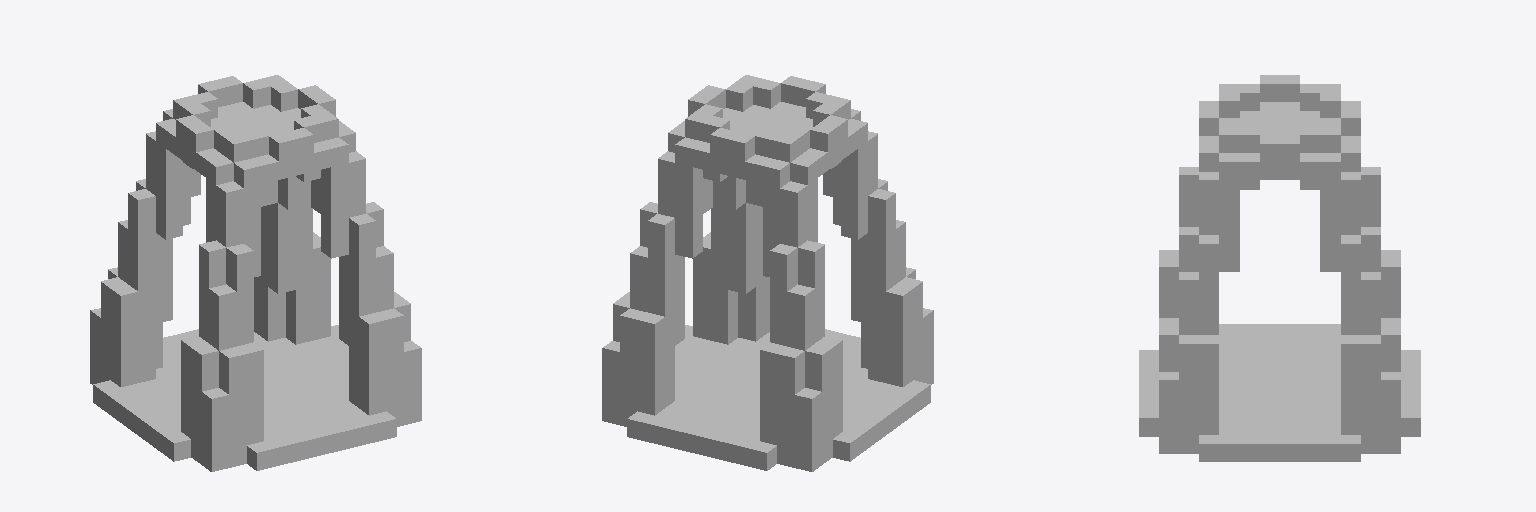
The model's file is Archer Tower.obj.
3 renders of one model, left to right at view 1: azimuth 30°, elevation 25°; view 2: azimuth 150°, elevation 25°; view 3: azimuth 270°, elevation 25°, orthographic.
Parts seen in each view (by area): view 1: object 1; view 2: object 1; view 3: object 1.
Part boxes in pixels (bbox=[...]): object 1: bbox=[90, 75, 421, 471]; object 1: bbox=[602, 75, 933, 471]; object 1: bbox=[1139, 75, 1420, 461].
Bounding box in the file's own units: 1.4 × 1.6 × 1.4.